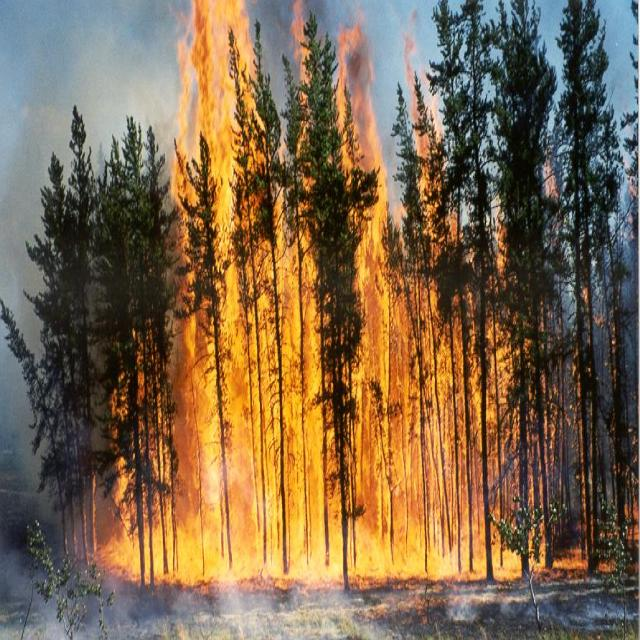Fire: (96, 0, 342, 588), (339, 26, 487, 583)
